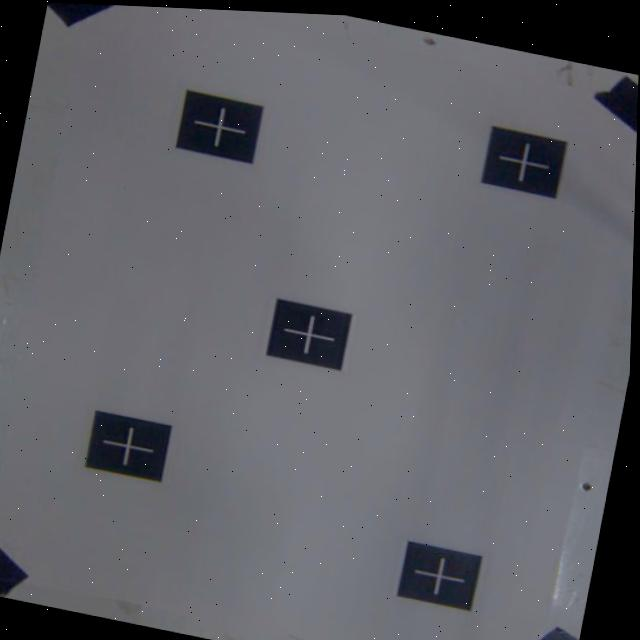dot: (172, 89, 265, 165), (261, 297, 354, 372), (81, 409, 171, 483), (479, 125, 568, 199), (395, 540, 483, 614)
